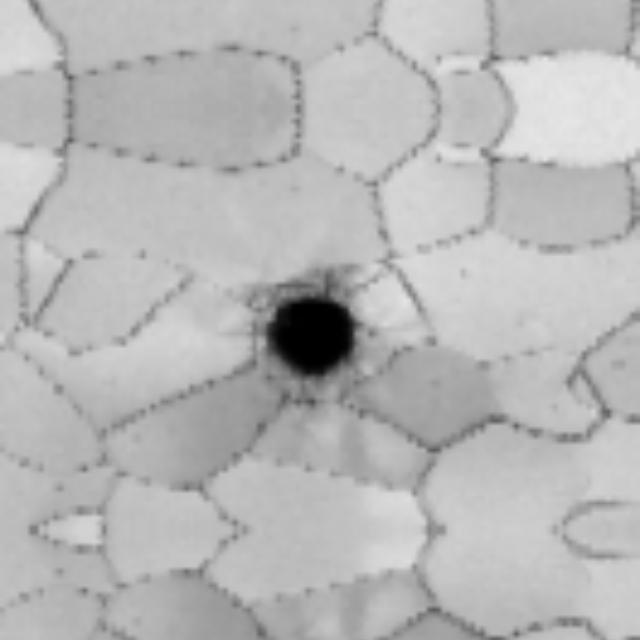good_void: (222, 254, 390, 413)
